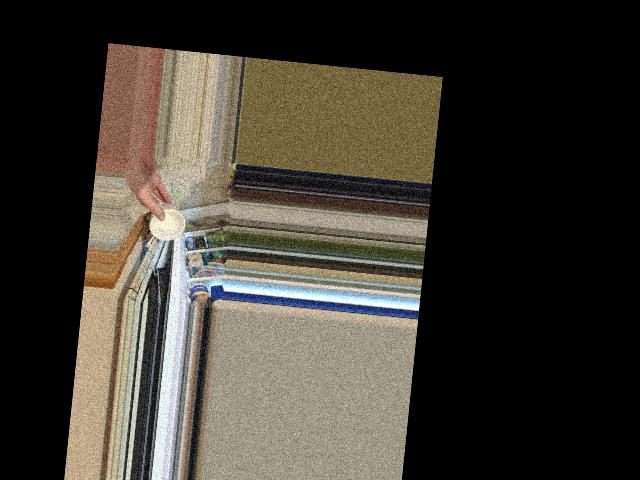cotage: (145, 198, 185, 246)
